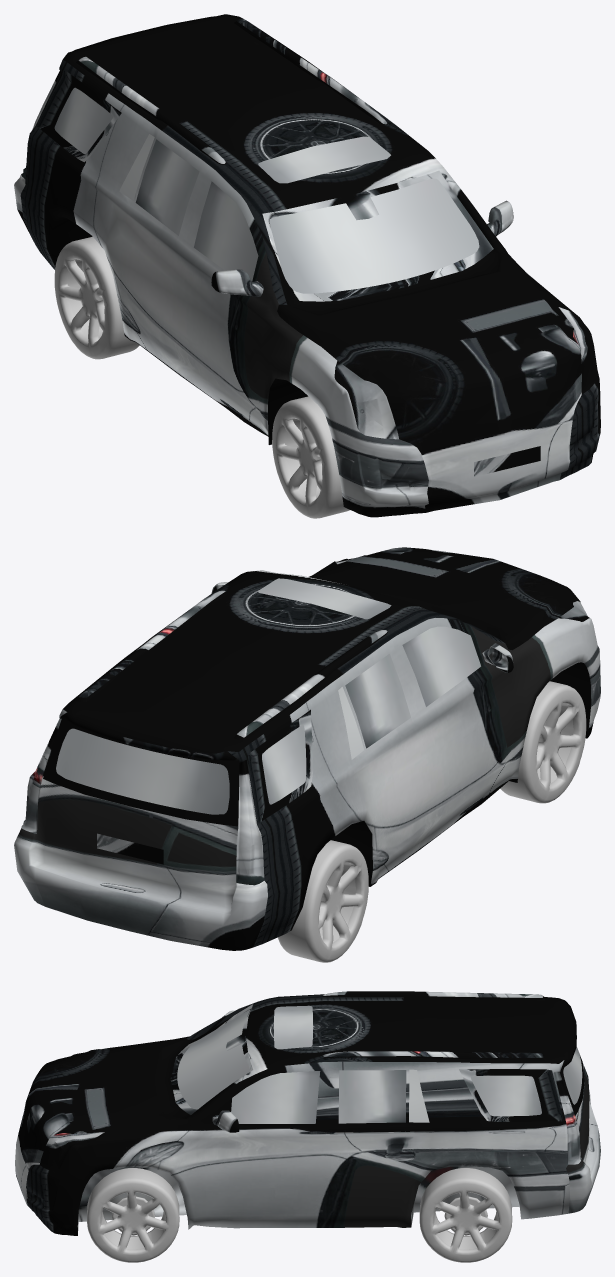
File: car 18.fbx
The picture shows the model from 3 angles, top to bottom: view 1: azimuth 30°, elevation 25°; view 2: azimuth 150°, elevation 25°; view 3: azimuth 270°, elevation 25°; orthographic projection. The views are drawn at different scales.
Parts seen in each view (by area): view 1: body, t4, t2; view 2: body, t4, t2; view 3: body, t3, t1.
Boxes of the visible parts, x1=… form: body: x1=14, y1=14, x2=600, y2=517; t4: x1=54, y1=236, x2=139, y2=359; t2: x1=272, y1=396, x2=349, y2=518; body: x1=14, y1=547, x2=600, y2=950; t4: x1=278, y1=840, x2=368, y2=962; t2: x1=500, y1=681, x2=586, y2=803; body: x1=15, y1=991, x2=600, y2=1235; t3: x1=419, y1=1168, x2=512, y2=1262; t1: x1=87, y1=1168, x2=179, y2=1262.
Size of the model in its own units: 233 by 190 by 520.
